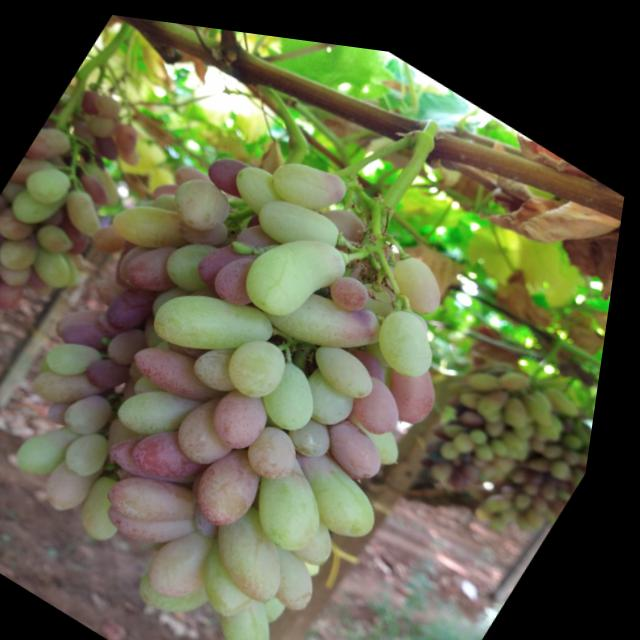grapes: (148, 254, 293, 383), (255, 247, 406, 369), (236, 201, 364, 331), (277, 427, 411, 541), (243, 434, 363, 556), (206, 485, 328, 604), (193, 426, 291, 532), (131, 325, 245, 415), (114, 449, 218, 541), (176, 375, 267, 472), (108, 179, 209, 266), (252, 176, 355, 261), (152, 510, 243, 606), (198, 528, 289, 620), (112, 478, 214, 560), (134, 407, 230, 494), (368, 287, 461, 376), (114, 421, 218, 500), (120, 358, 208, 447), (266, 136, 360, 219), (222, 317, 307, 402), (261, 348, 344, 433), (377, 338, 462, 421), (144, 549, 232, 626), (323, 400, 409, 477), (33, 345, 119, 422), (211, 371, 290, 453), (262, 532, 345, 609), (124, 223, 203, 303), (166, 160, 247, 237), (383, 235, 464, 311), (311, 326, 396, 398), (82, 464, 156, 545), (56, 286, 133, 360), (162, 219, 236, 295), (351, 358, 425, 432), (21, 407, 91, 484), (299, 354, 374, 425), (251, 410, 322, 482), (223, 581, 309, 640), (211, 237, 279, 307), (47, 323, 118, 389), (196, 326, 263, 392), (227, 151, 296, 215), (349, 399, 422, 458), (68, 417, 132, 484), (107, 269, 168, 336), (313, 188, 380, 248), (49, 454, 111, 518), (195, 227, 255, 292), (69, 379, 130, 442), (9, 175, 72, 236), (176, 196, 241, 253), (23, 152, 83, 211), (203, 139, 265, 196), (58, 181, 119, 238), (292, 400, 352, 457), (74, 155, 136, 207), (304, 506, 359, 564), (66, 307, 125, 360), (329, 257, 386, 310), (27, 119, 81, 174), (32, 241, 89, 293), (110, 314, 162, 369), (0, 225, 52, 279), (12, 147, 63, 200), (89, 348, 143, 397), (55, 210, 103, 257), (239, 209, 290, 253), (118, 235, 162, 286), (91, 215, 139, 260), (154, 272, 198, 321), (171, 153, 219, 195), (360, 267, 407, 309), (470, 348, 518, 389), (546, 366, 596, 405), (0, 203, 44, 247), (38, 217, 83, 257), (147, 310, 189, 352), (197, 497, 242, 536), (524, 376, 570, 414), (171, 323, 218, 360), (482, 365, 521, 408), (0, 253, 42, 292), (93, 268, 136, 306), (77, 168, 121, 204), (483, 429, 521, 470), (503, 412, 545, 449), (115, 412, 156, 449), (57, 249, 95, 288), (508, 380, 546, 417), (503, 349, 543, 384), (112, 116, 149, 153), (140, 368, 179, 402), (98, 305, 137, 338), (90, 86, 129, 119), (91, 126, 129, 159), (87, 107, 123, 141), (0, 276, 33, 313), (0, 236, 21, 292), (55, 392, 87, 426), (155, 181, 189, 213), (71, 115, 107, 145), (78, 84, 110, 117), (458, 414, 492, 445), (490, 472, 524, 503), (113, 135, 149, 164), (271, 585, 303, 617), (153, 170, 184, 202), (4, 177, 36, 208), (438, 442, 469, 472), (448, 402, 479, 430), (464, 370, 493, 398), (446, 424, 475, 452), (556, 440, 586, 467), (467, 392, 496, 419), (544, 402, 574, 428), (456, 453, 484, 480), (232, 229, 262, 254), (535, 436, 563, 462), (577, 402, 603, 429), (481, 425, 509, 450), (491, 399, 517, 425), (570, 413, 597, 438), (533, 492, 561, 516), (575, 449, 597, 478), (517, 449, 542, 474), (521, 402, 547, 426), (0, 309, 15, 349), (550, 424, 575, 448), (549, 464, 574, 488), (483, 490, 509, 513), (313, 546, 338, 569), (511, 488, 533, 514), (50, 202, 72, 227), (469, 446, 494, 468), (493, 390, 515, 413), (509, 466, 532, 488), (524, 475, 546, 498), (541, 478, 564, 500), (478, 412, 501, 433), (500, 500, 523, 521), (570, 430, 593, 451), (440, 410, 463, 430), (559, 479, 579, 502), (531, 464, 553, 484), (426, 442, 450, 460), (0, 193, 14, 223), (537, 454, 558, 474), (0, 223, 15, 250), (435, 424, 454, 445), (567, 399, 587, 418), (251, 205, 269, 225), (554, 490, 573, 508), (479, 440, 499, 457), (0, 298, 14, 322), (583, 433, 599, 451), (559, 399, 577, 415), (164, 333, 181, 349), (470, 437, 486, 452), (590, 426, 600, 445), (0, 327, 3, 369), (562, 499, 570, 510), (0, 273, 2, 314)
